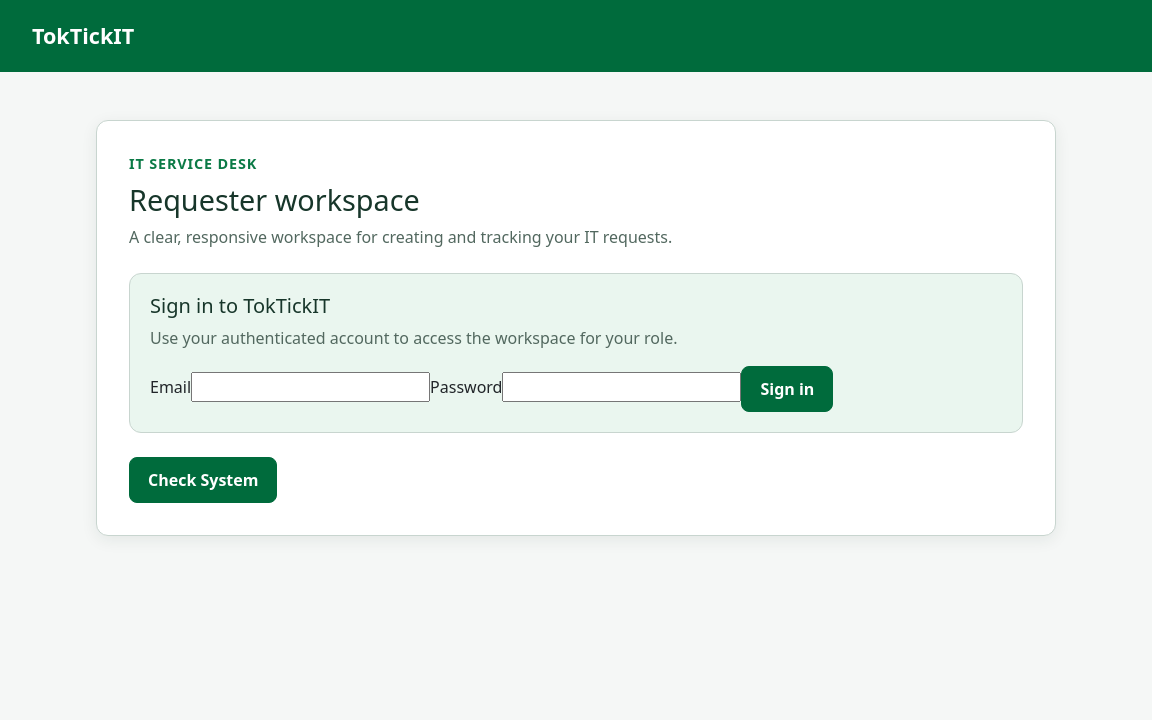
Test: App › shows a loading state while checking the system
This screenshot has width=1152, height=720.
Click the button "Check System": click(203, 480) [129, 457, 278, 503]
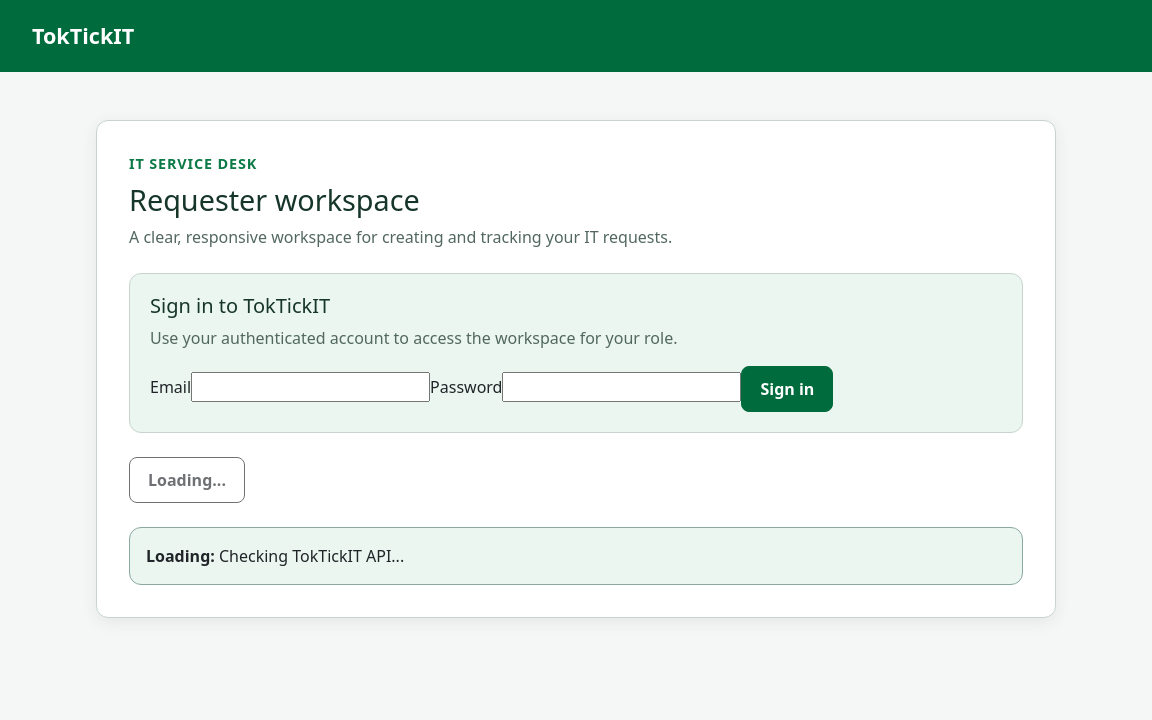
expect the message shows "Checking TokTickIT API": met, box [215, 545, 404, 567]
expect the button "Loading..." is disabled: met, box [129, 457, 245, 503]
